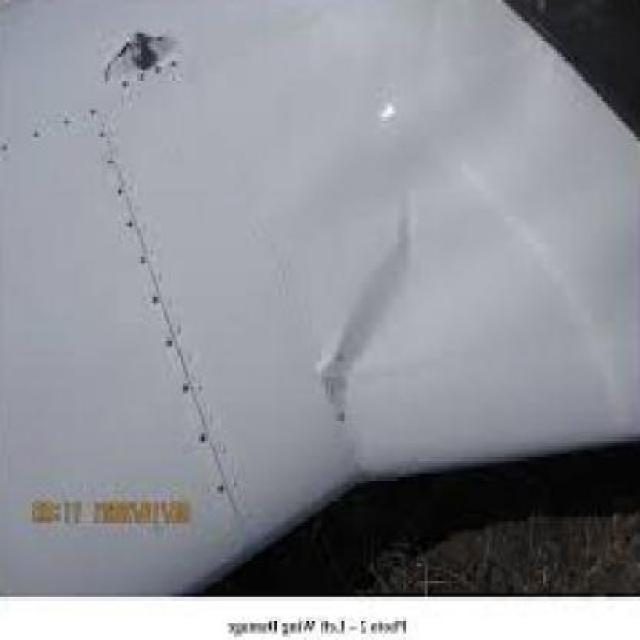dent: (315, 195, 413, 423)
